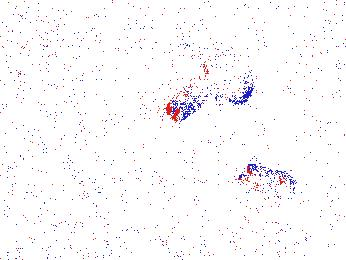flame jellyfish: (165, 51, 255, 123), (236, 162, 297, 214), (1, 172, 38, 233)
